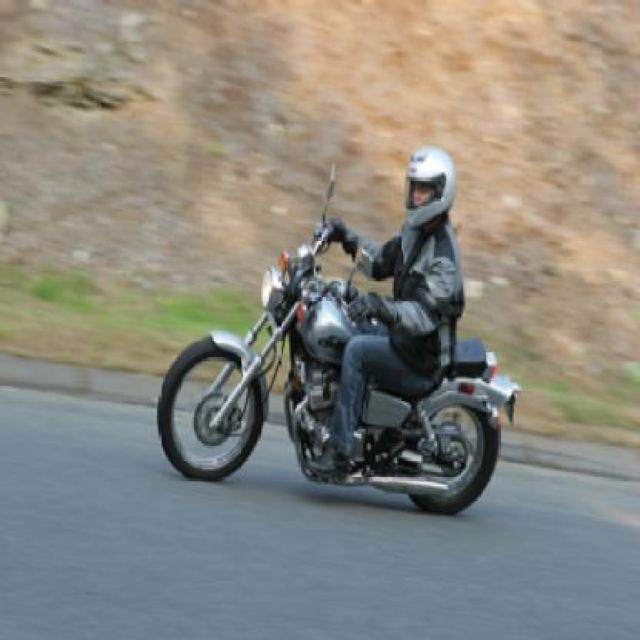With Helmet: (403, 144, 462, 222)
